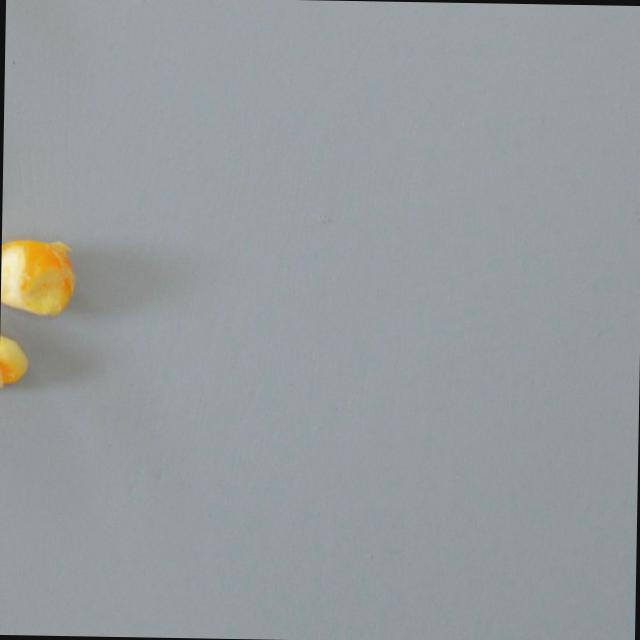dañado: (0, 233, 81, 318), (0, 302, 34, 391)
